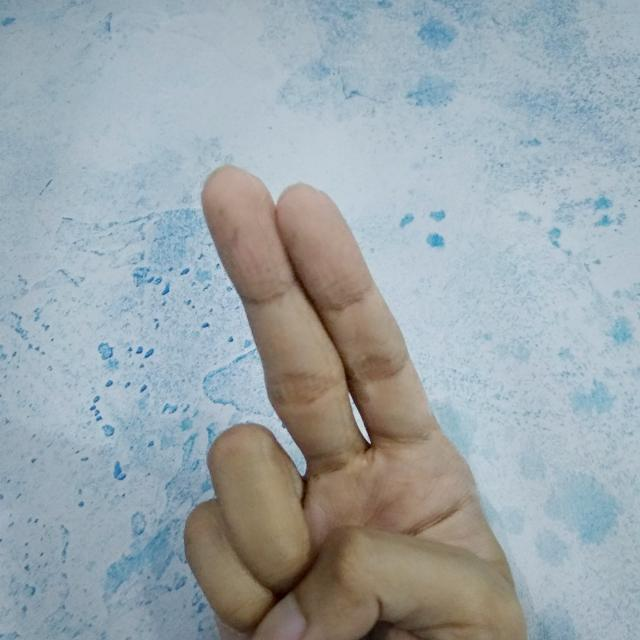U: (177, 157, 534, 640)
